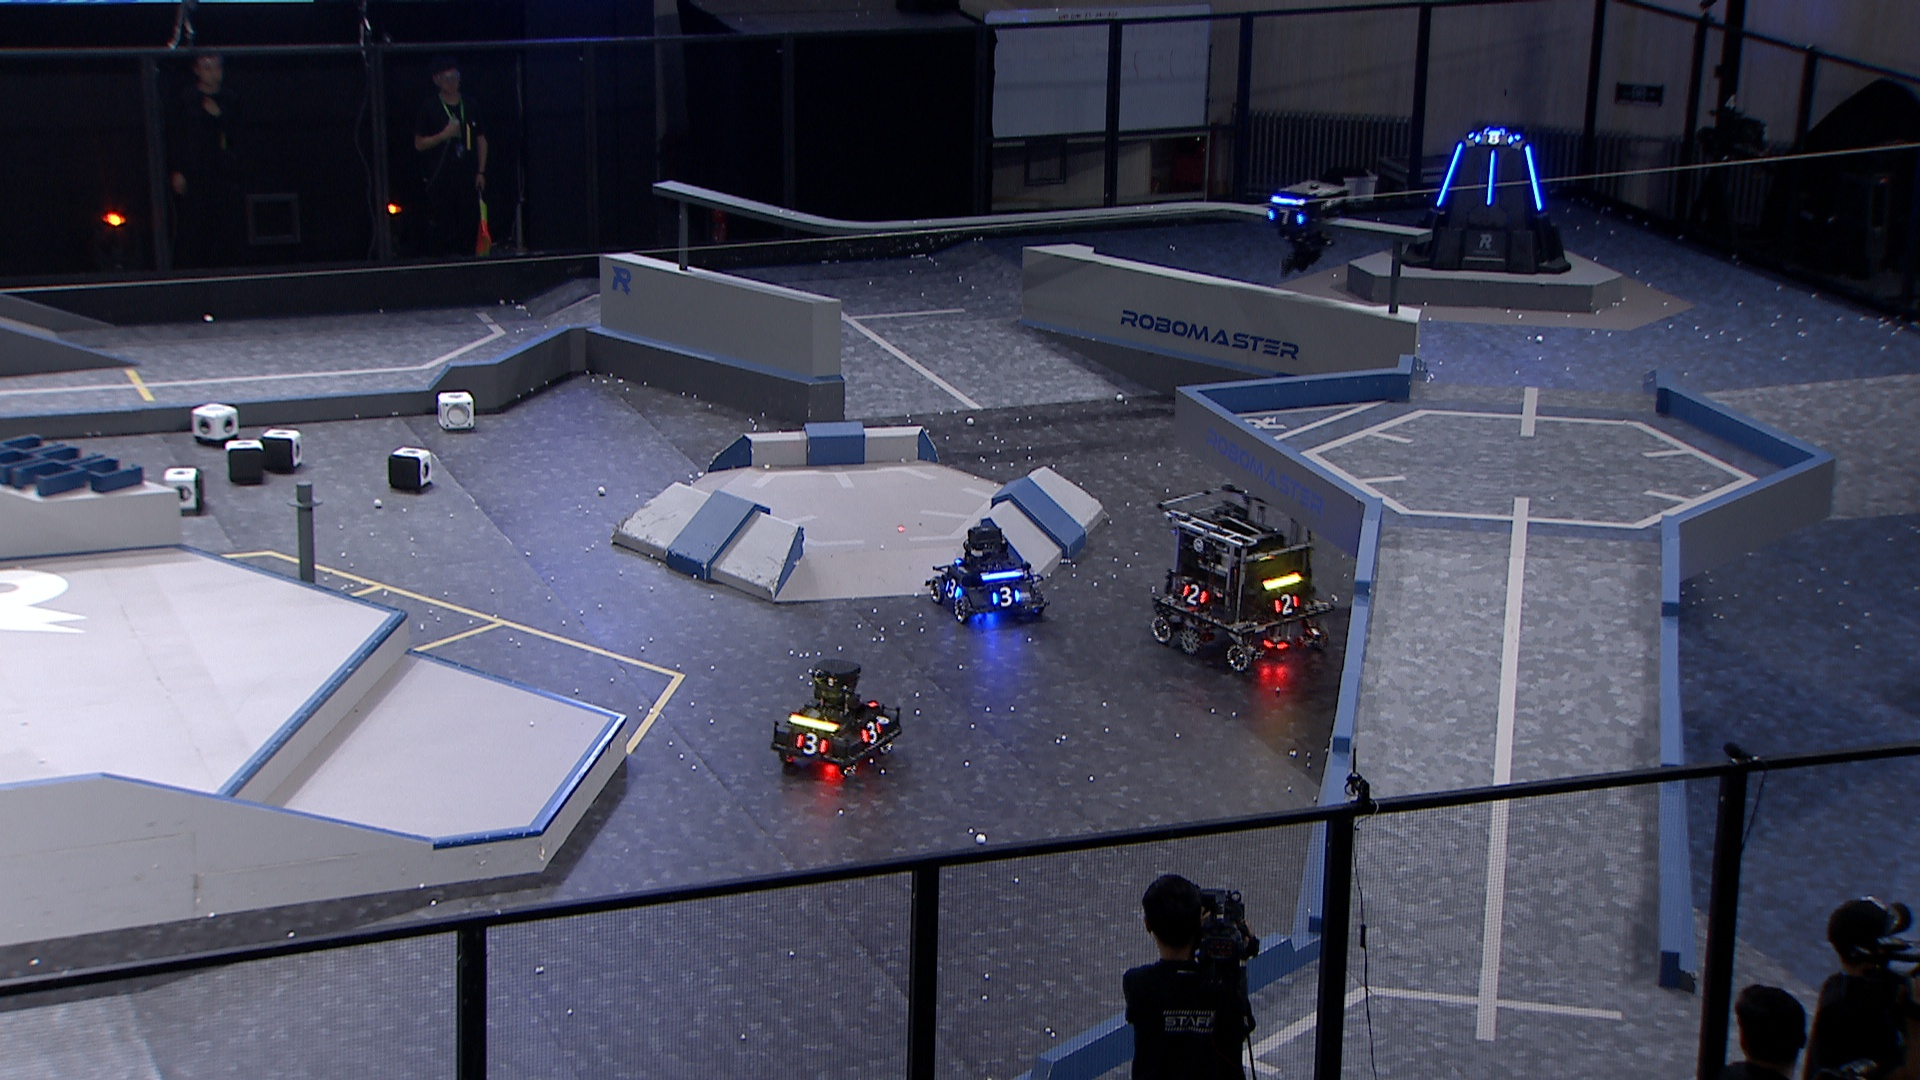armor: (1433, 138, 1466, 207), (1523, 142, 1545, 211), (1265, 206, 1309, 228), (1484, 148, 1499, 206), (1474, 127, 1514, 149), (988, 584, 1025, 607), (795, 732, 829, 756), (856, 717, 884, 745), (1271, 591, 1300, 617), (1182, 583, 1209, 607), (942, 578, 963, 600)
base: (1396, 120, 1575, 277)
car: (1147, 483, 1337, 671), (767, 655, 906, 779), (927, 520, 1050, 626)
watcher: (1261, 177, 1352, 278)
